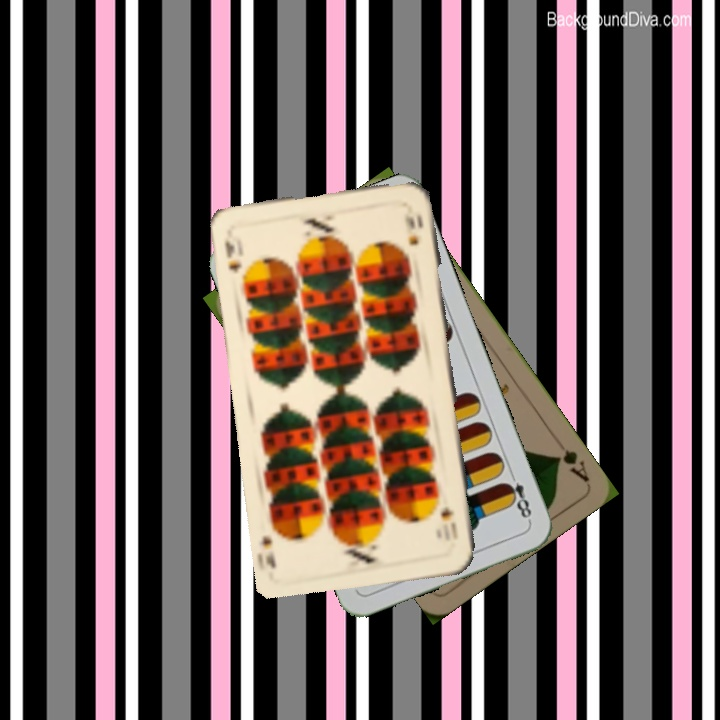E8: (500, 468, 534, 525)
GA: (550, 445, 592, 485)
S10: (221, 236, 249, 285), (439, 503, 461, 541)
